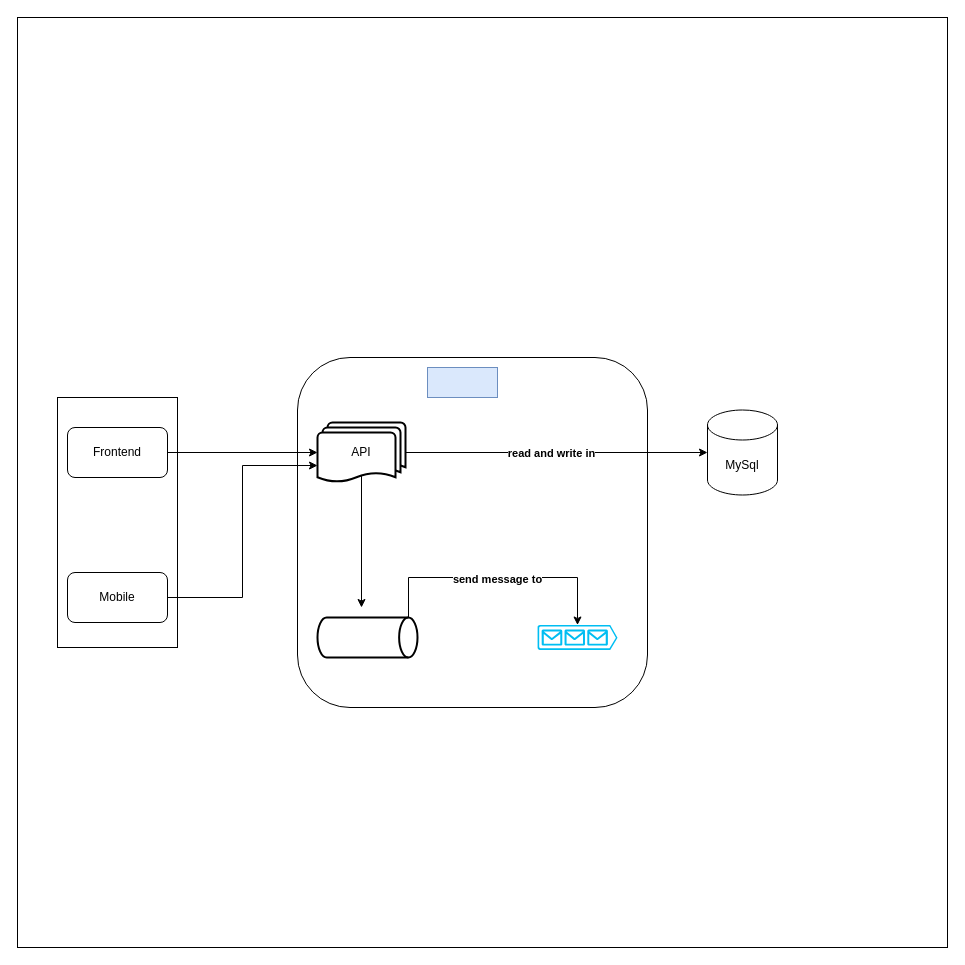
This 965x965 diagram has some shape labels left out. The box of each missing label's shape, as (x1, y1, x2, y2) in pixels:
Docker: (426, 366, 498, 398)
Rabitmq: (316, 616, 418, 658)
